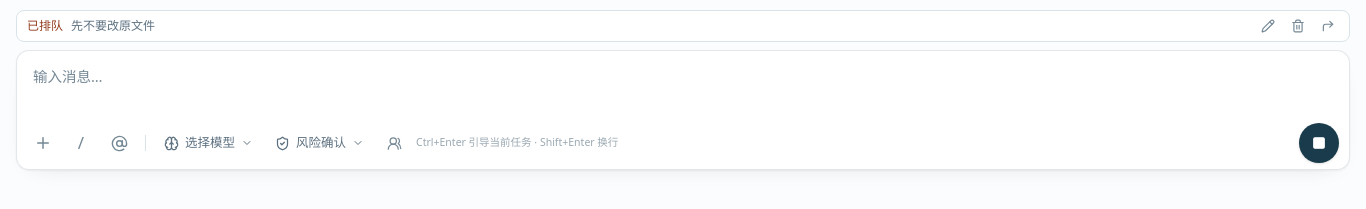
it: InputArea › guides a pure-text queued row and reports native queued delivery honestly
Click the button named "转为引导".
click(1328, 26)  # box [1317,15,1339,37]
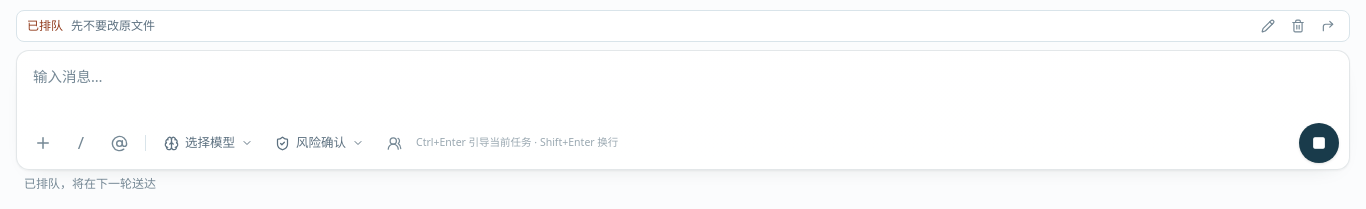
Result: the text "已排队，将在下一轮送达" is shown at [24,175,156,192]
